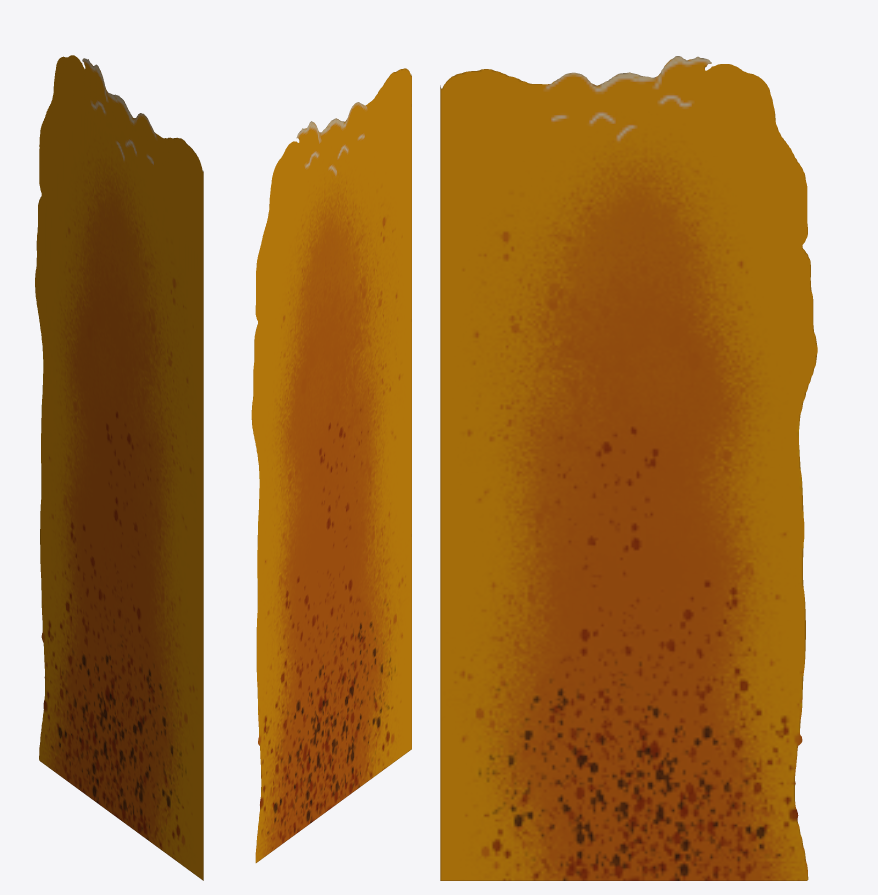
The model's file is lava.obj.
The picture shows the model from 3 angles, left to right: view 1: azimuth 30°, elevation 25°; view 2: azimuth 150°, elevation 25°; view 3: azimuth 270°, elevation 25°; orthographic projection. The views are drawn at different scales.
Parts seen in each view (by area): view 1: lava; view 2: lava; view 3: lava.
Part boxes in pixels (x1,y1,x2,y2): lava: (35,55,203,880); lava: (251,68,411,862); lava: (440,56,817,880).
Bounding box in the file's own units: 0 × 0.1875 × 0.0829.
Materials: 1 (1 with a texture image).
